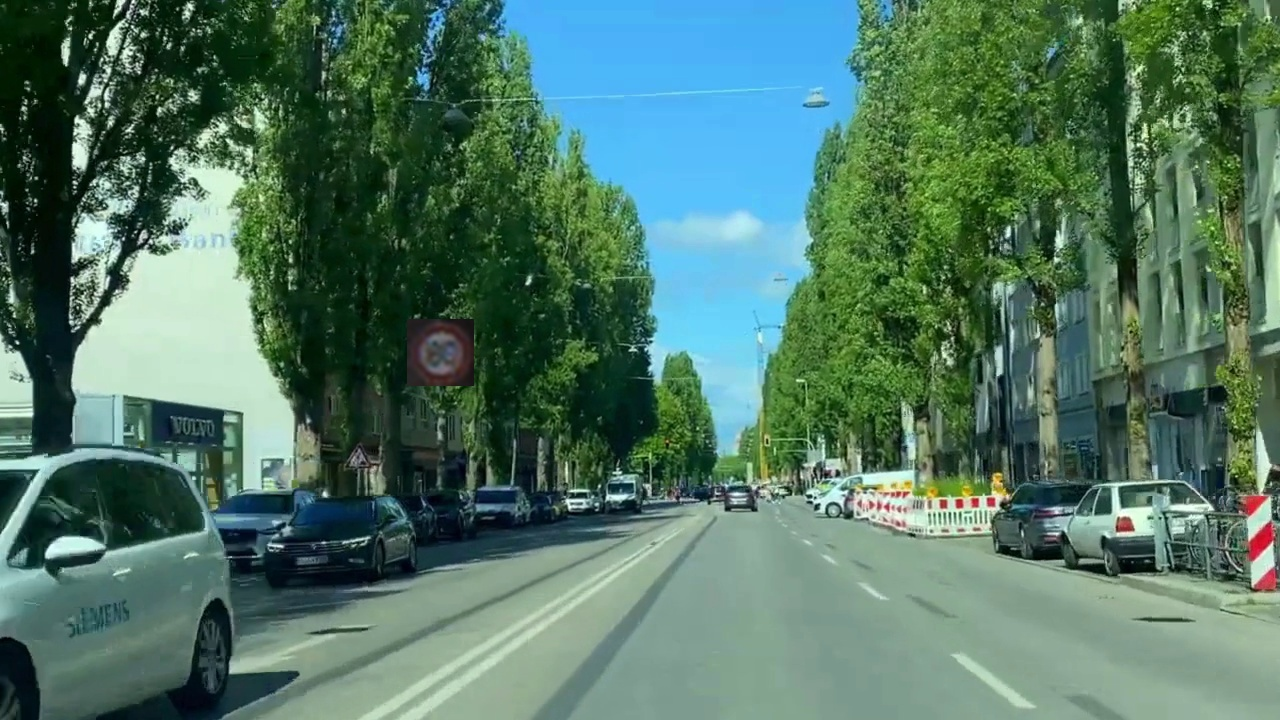Speed 80: (407, 319, 474, 386)
